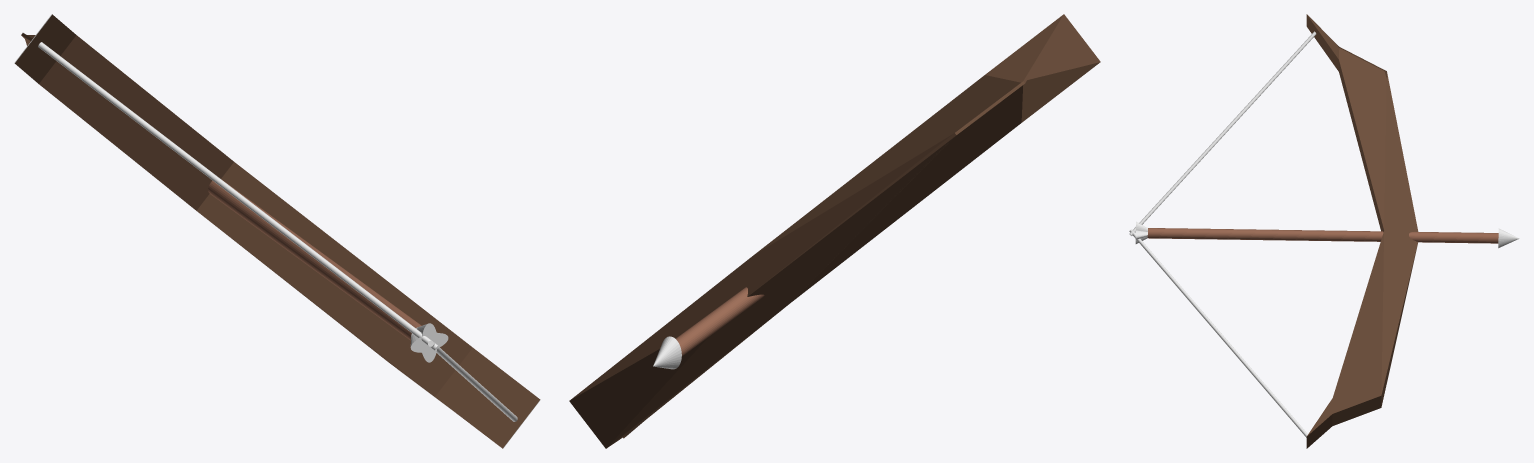
Rendered from Bow.fbx.
The picture shows the model from 3 angles, left to right: view 1: azimuth 30°, elevation 25°; view 2: azimuth 150°, elevation 25°; view 3: azimuth 270°, elevation 25°; orthographic projection. The views are drawn at different scales.
Parts seen in each view (by area): view 1: Cylinder.002; view 2: Cylinder.002; view 3: Cylinder.002.
Boxes of the visible parts, x1,y1,x2,y2 form: Cylinder.002: (14,14,540,448); Cylinder.002: (569,14,1100,448); Cylinder.002: (1129,14,1519,448).
Size of the model in its own units: 98.09 by 97.04 by 111.
